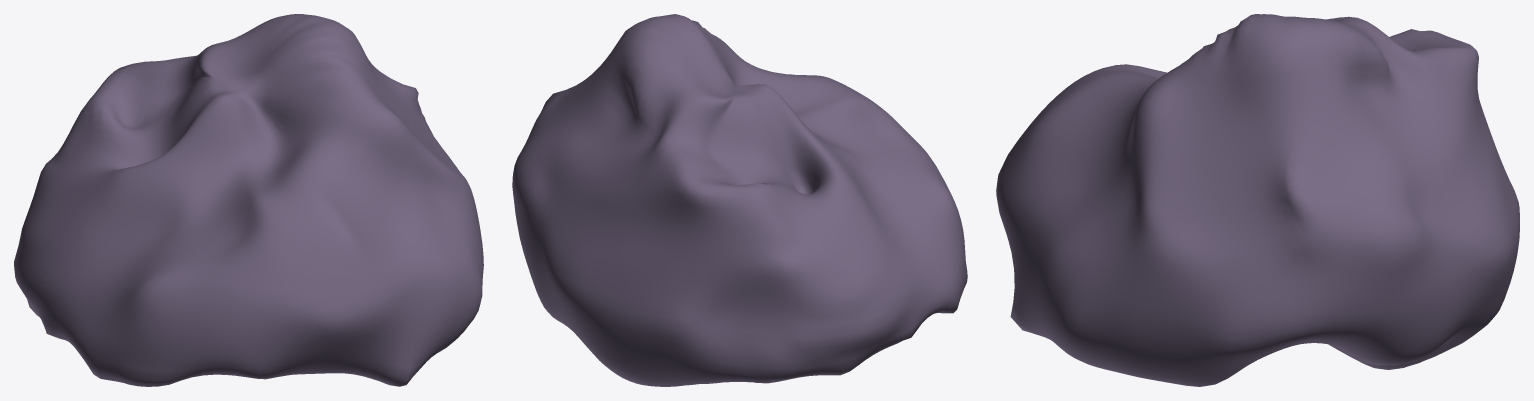
The model's file is stone2.glb.
3 renders of one model, left to right at view 1: azimuth 30°, elevation 25°; view 2: azimuth 150°, elevation 25°; view 3: azimuth 270°, elevation 25°, orthographic. The views are drawn at different scales.
Parts seen in each view (by area): view 1: 球; view 2: 球; view 3: 球.
Boxes of the visible parts, x1=… form: 球: x1=14, y1=14, x2=483, y2=386; 球: x1=512, y1=14, x2=967, y2=386; 球: x1=996, y1=14, x2=1519, y2=386.
Size of the model in its own units: 1.85 by 1.37 by 1.8.
